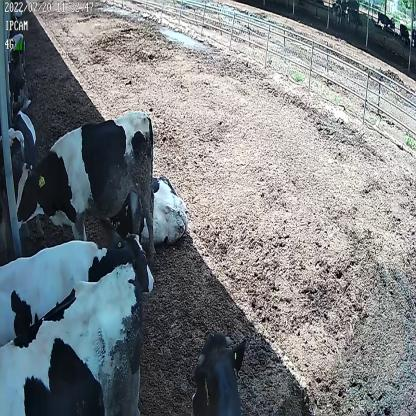cow: (13, 108, 158, 286), (0, 218, 155, 355)
